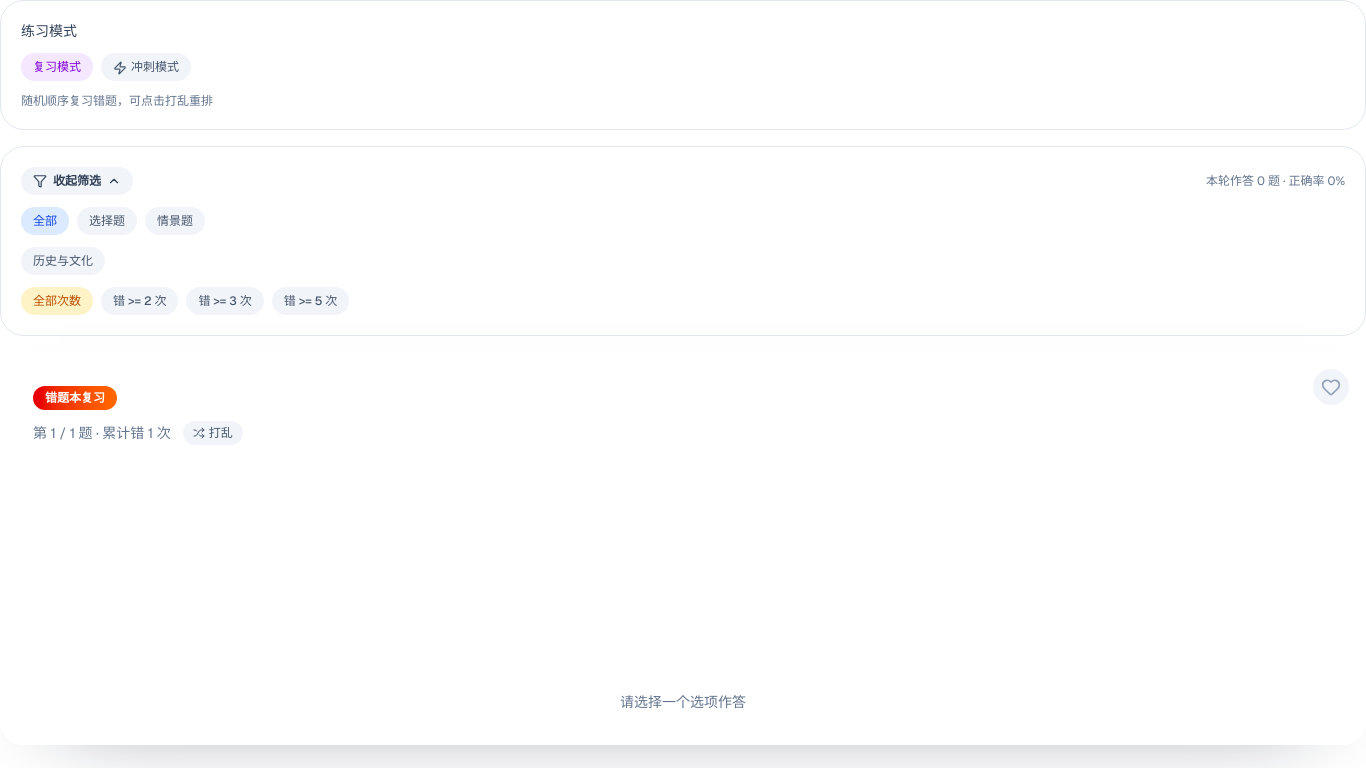
MistakesPracticeCard › keeps full filter controls after empty result
Click the button "错 >= 5 次": (311, 301) [272, 287, 349, 315]
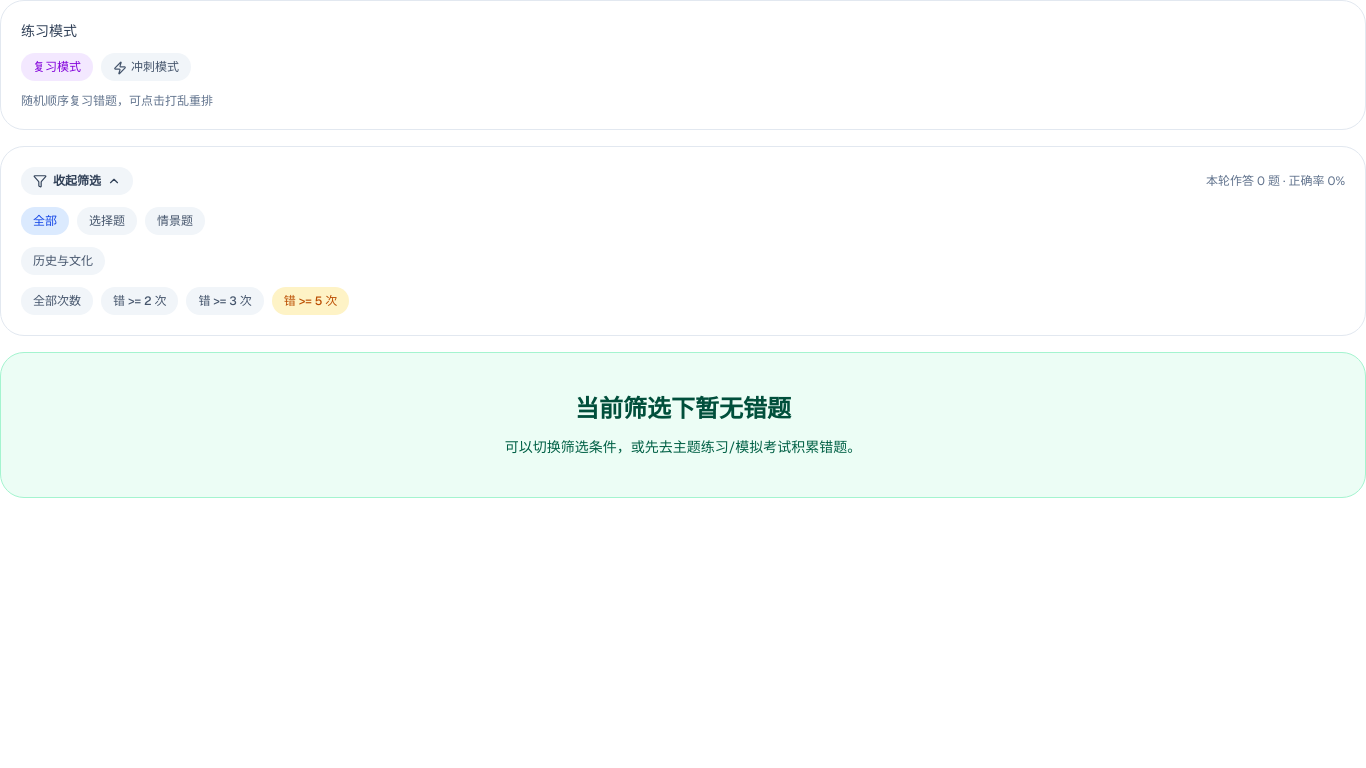
Expected: the button "错 >= 2 次" is shown, [101, 287, 178, 315]
Expected: the heading "当前筛选下暂无错题" is shown, [575, 393, 791, 424]
